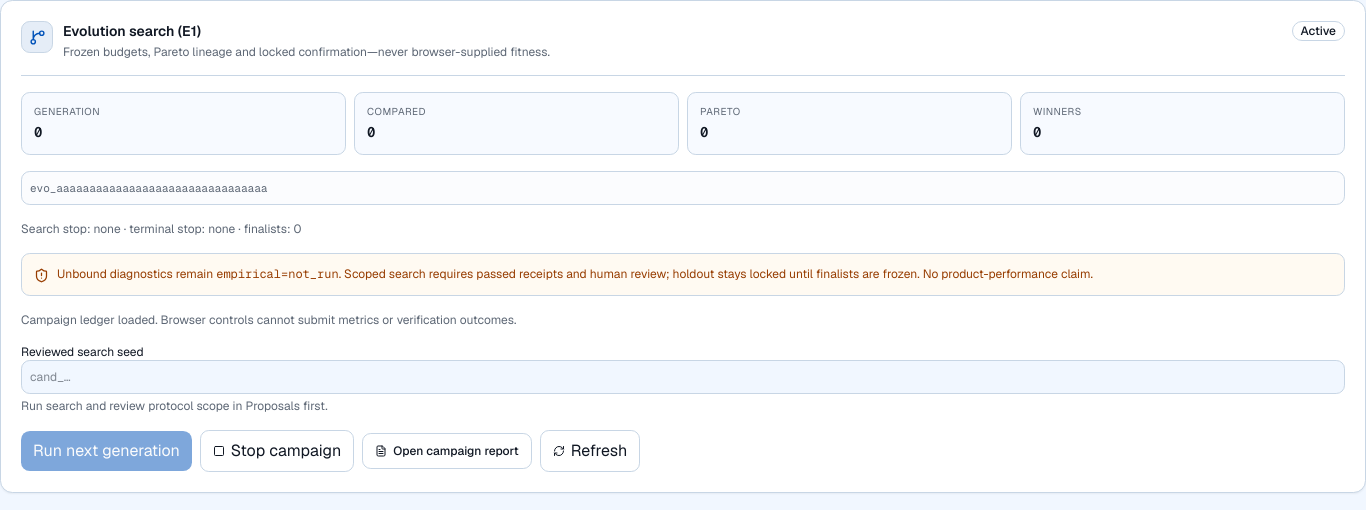
Scenario: loads and stops the exact campaign while preserving trust labels
The width and height of the screenshot is (1366, 510).
Click the button "Stop campaign": (277, 451) left=200, top=430, right=354, bottom=472
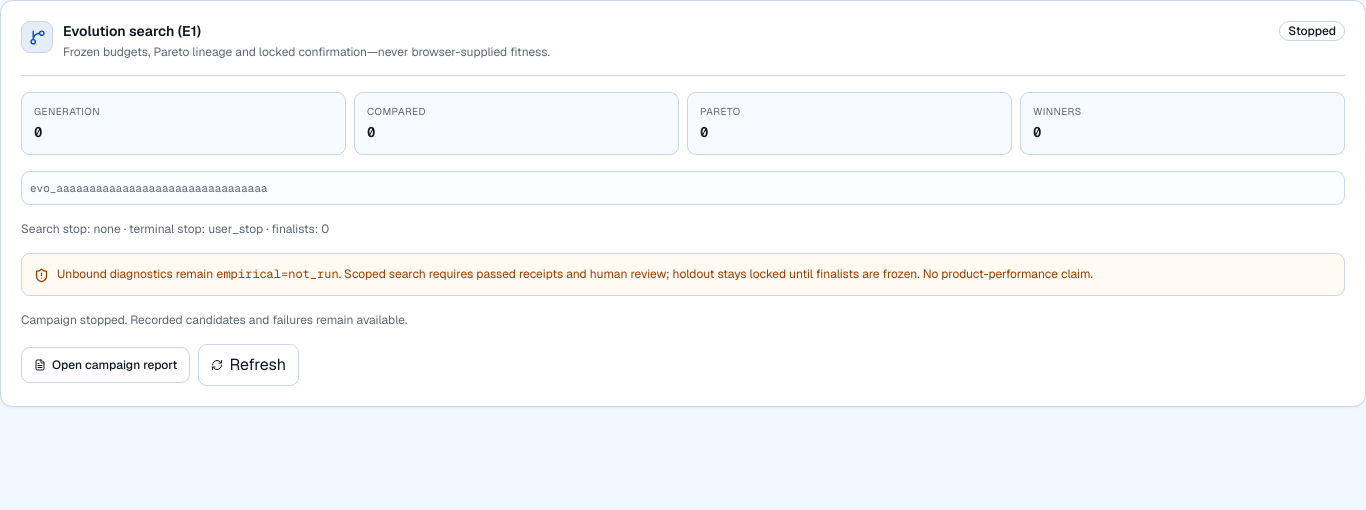
Now the text "Campaign stopped" is shown, box left=21, top=312, right=408, bottom=328
Now the button "Stop campaign" is gone
